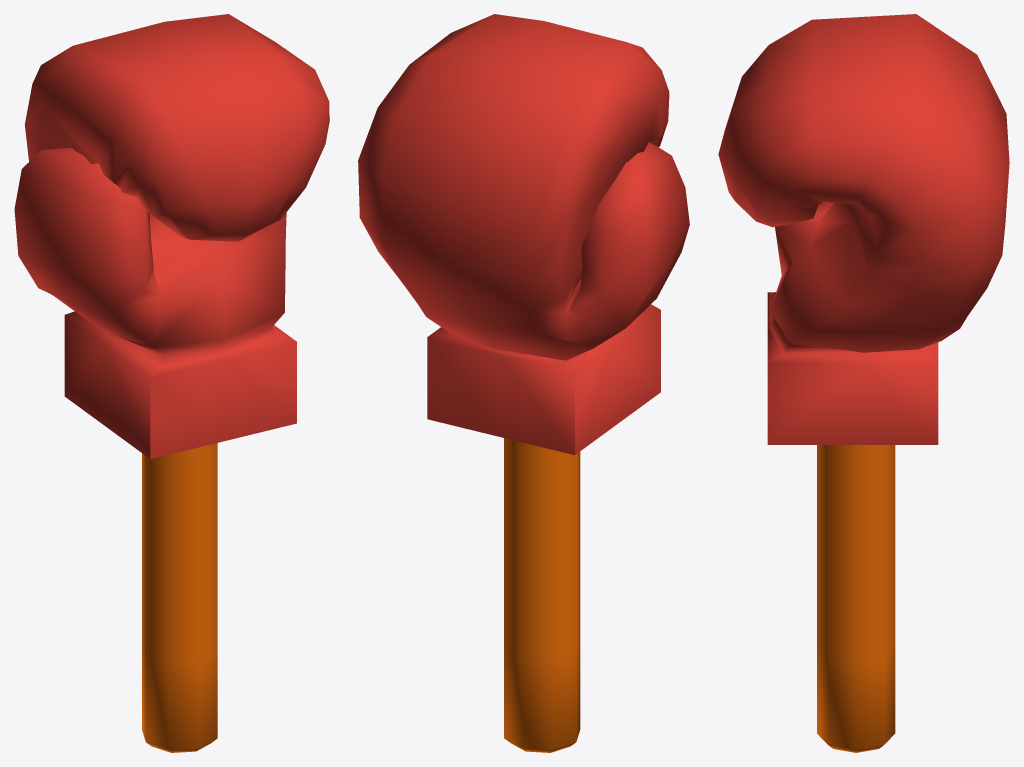
Rendered from Ground_Hammer_08.fbx.
3 views of the same model, side by side, from view 1: azimuth 30°, elevation 25°; view 2: azimuth 150°, elevation 25°; view 3: azimuth 270°, elevation 25° (orthographic).
Parts seen in each view (by area): view 1: Obstacle_Ground_Hammer_08; view 2: Obstacle_Ground_Hammer_08; view 3: Obstacle_Ground_Hammer_08.
Boxes of the visible parts, bbox=[...] form: Obstacle_Ground_Hammer_08: bbox=[14, 14, 329, 752]; Obstacle_Ground_Hammer_08: bbox=[358, 14, 689, 752]; Obstacle_Ground_Hammer_08: bbox=[718, 14, 1009, 752].
Bounding box in the file's own units: 198 × 487 × 186.
1 material, 1 textured.
